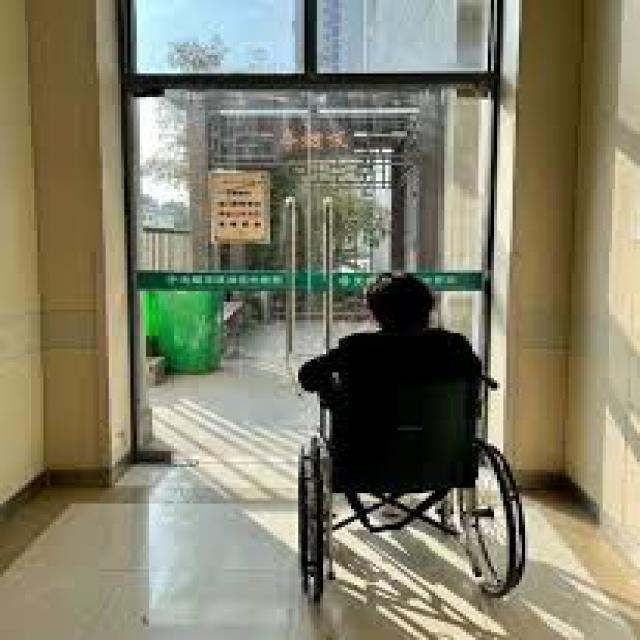wheelchairs: (252, 349, 528, 601)
